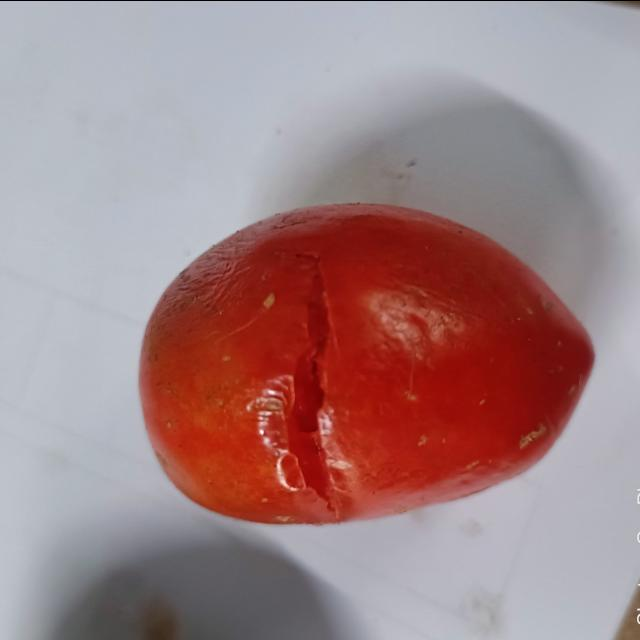Botrytis: (252, 254, 342, 512)
